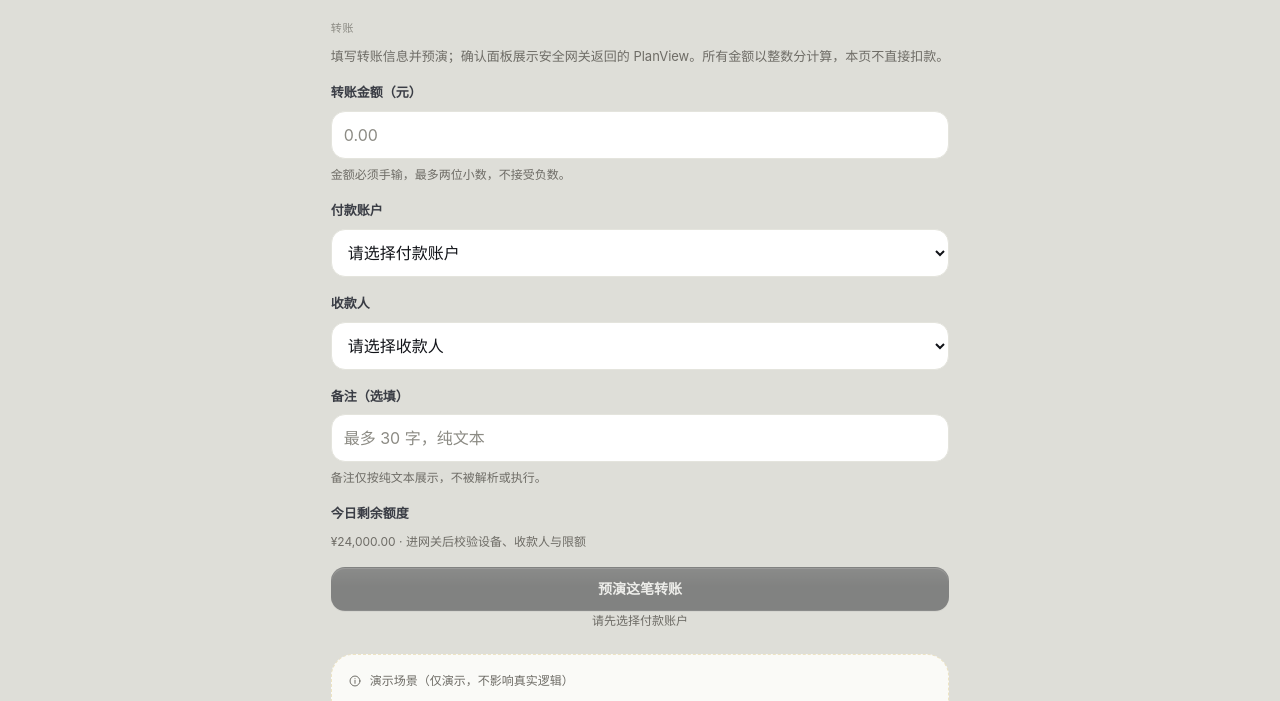
Test: transfer preview → approval › preview success loads PlanView by approval_id
The image size is (1280, 701).
Type "3000" into the field labelled "转账金额（元）".
click(640, 135); type("3000")  # box left=344, top=112, right=936, bottom=158
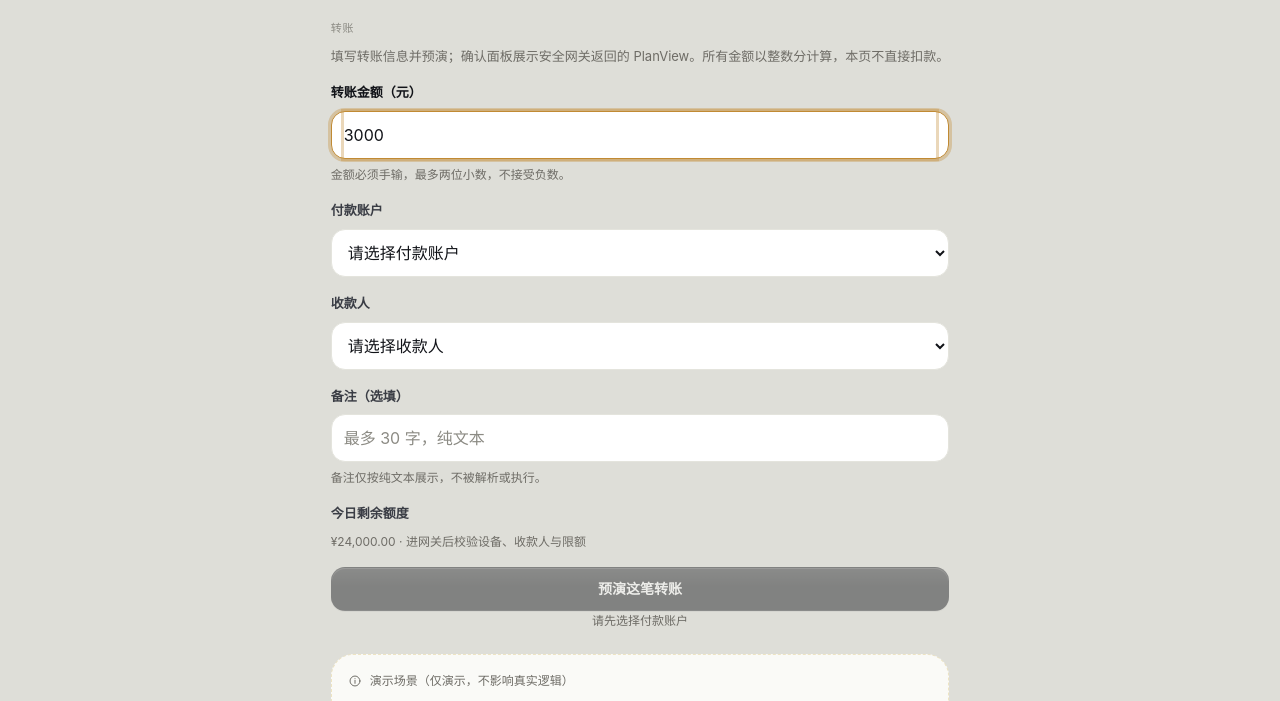
Select "活期 · 尾号 1234" in the dropdown labelled "付款账户" at (640, 253), box left=331, top=229, right=949, bottom=277
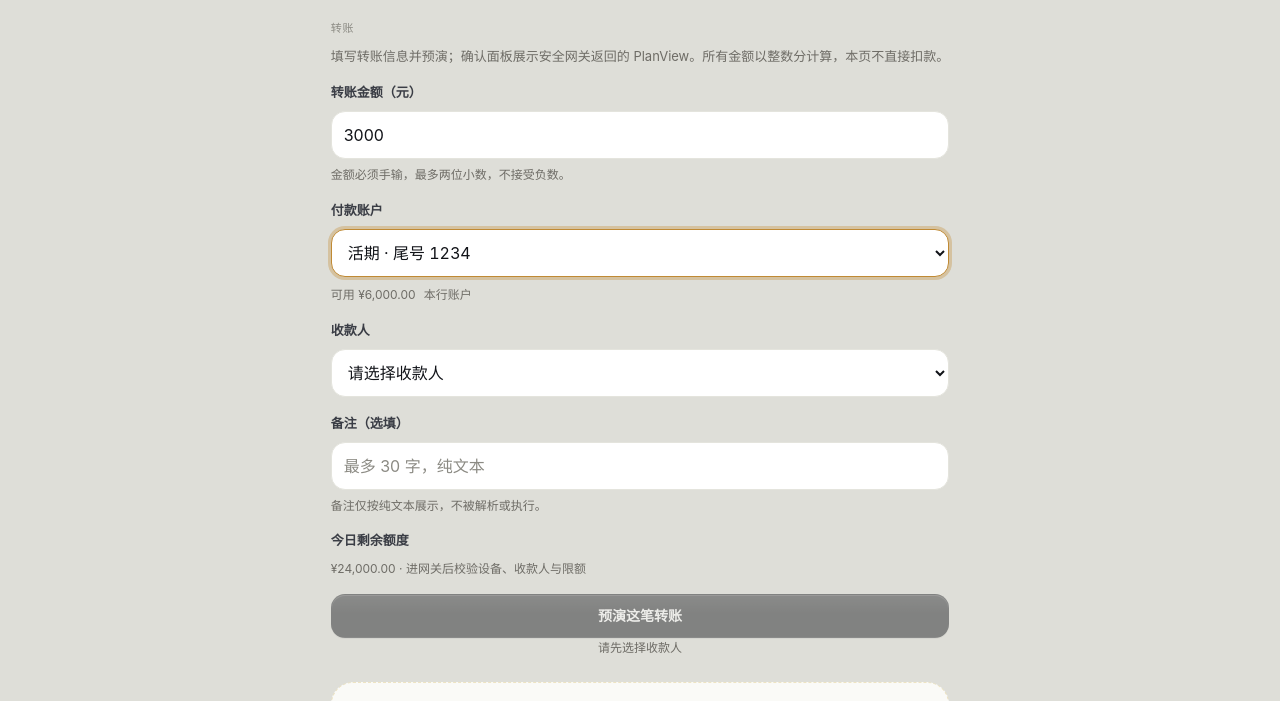
Select "王五 · 本行 尾号 8891" in the dropdown labelled "收款人" at (640, 373), box left=331, top=349, right=949, bottom=397
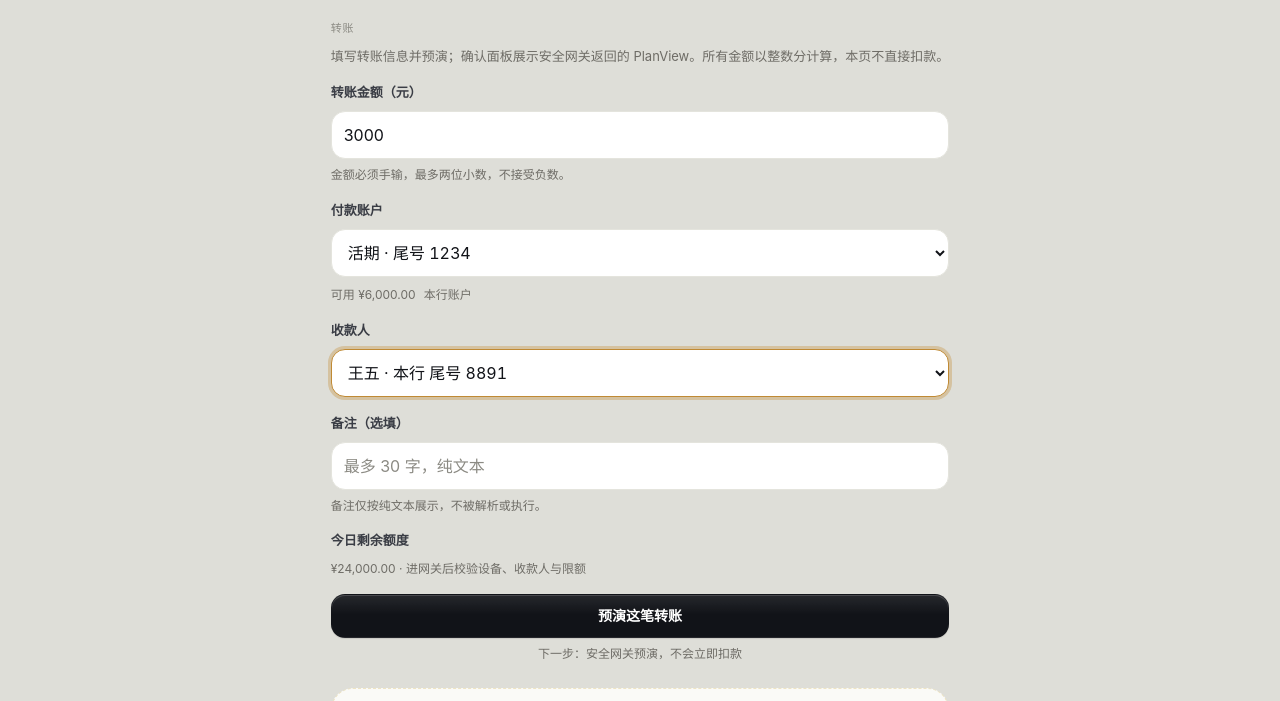
Type "房租" into the field labelled "备注（选填）".
click(640, 466); type("房租")  # box left=344, top=443, right=936, bottom=489
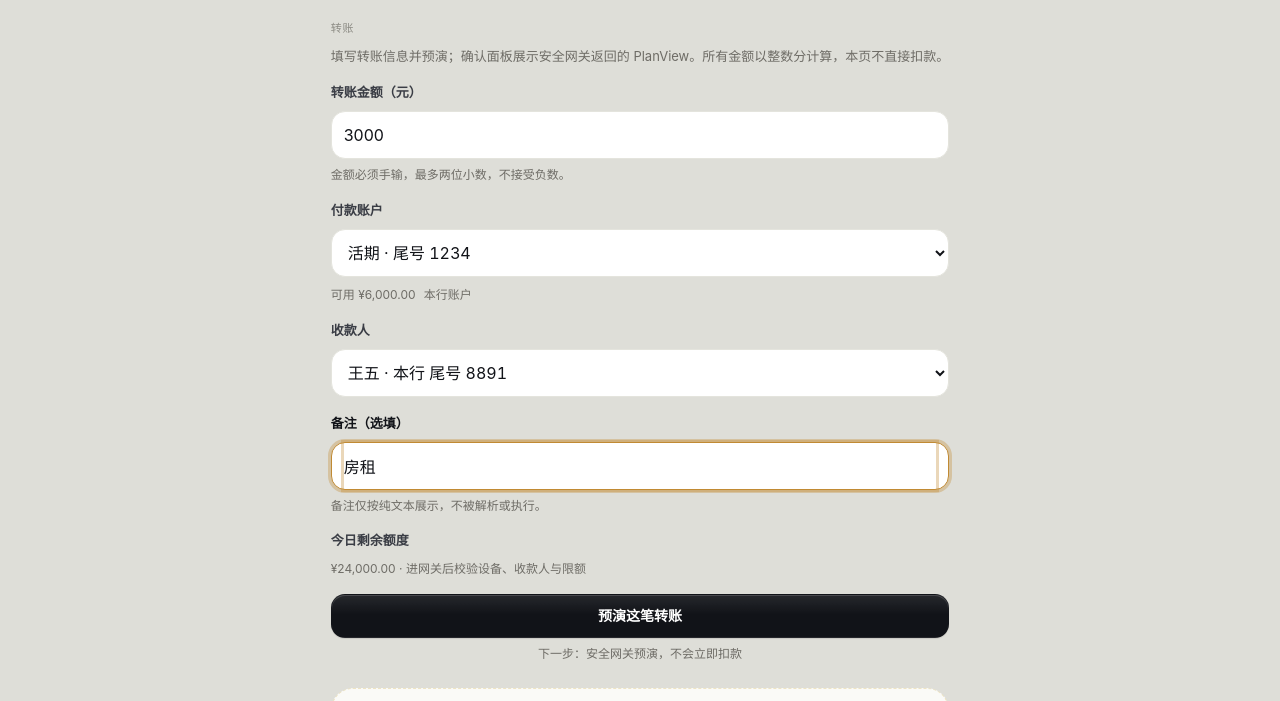
Click the button "预演这笔转账".
click(640, 616)  # box left=331, top=594, right=949, bottom=638
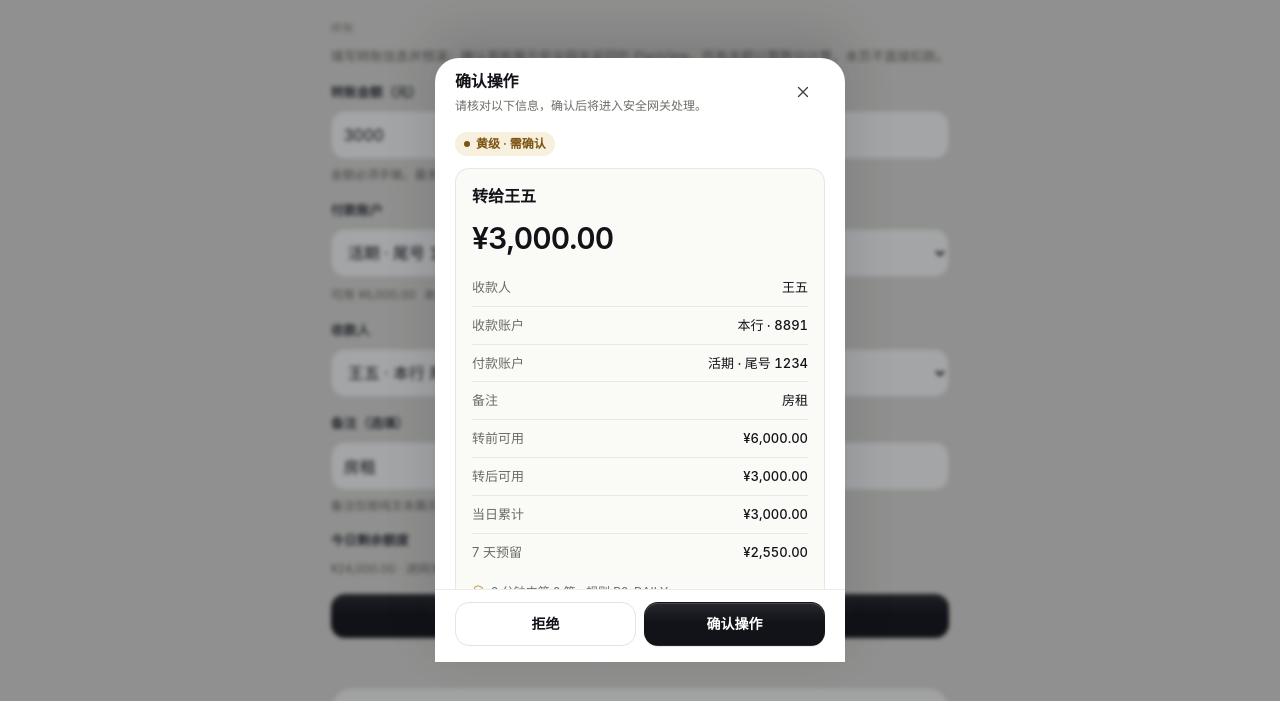
Expected: the dialog "确认操作" shows "收款人", left=472, top=279, right=511, bottom=295
Expected: the dialog "确认操作" shows "转前可用", left=472, top=430, right=524, bottom=446
Expected: the dialog "确认操作" shows "转后可用", left=472, top=468, right=524, bottom=484
